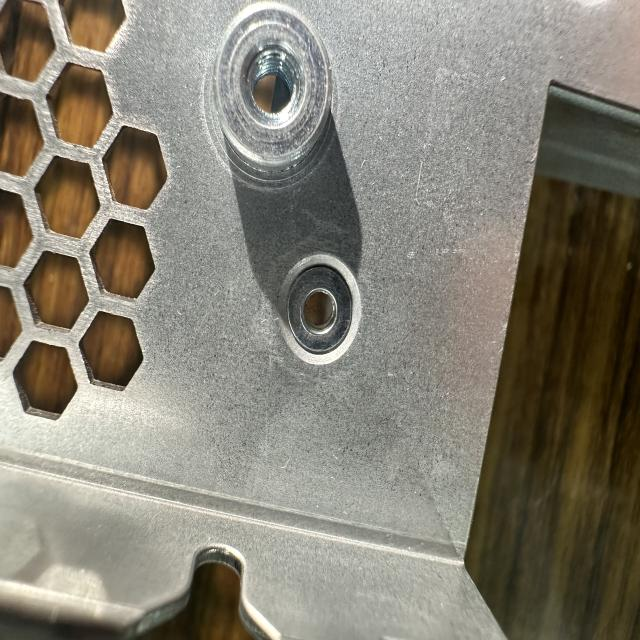Missing screw: (272, 240, 374, 380)
